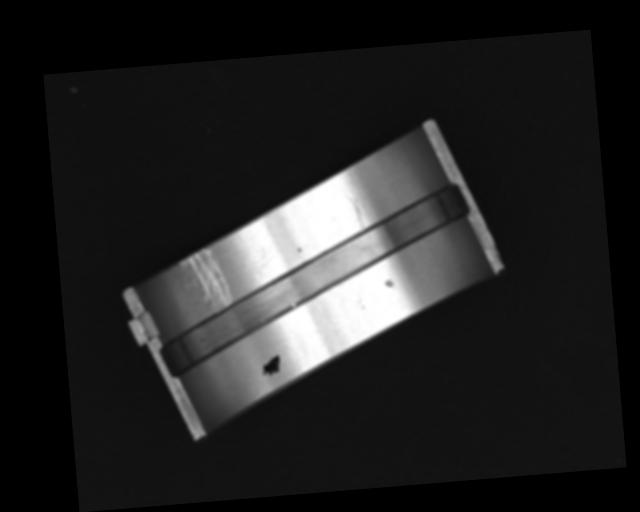blot: (259, 353, 282, 376)
bruise: (384, 279, 394, 287), (296, 247, 301, 254)
gap: (150, 181, 482, 377)
nick: (343, 189, 365, 232)
scratch: (178, 247, 232, 311)
